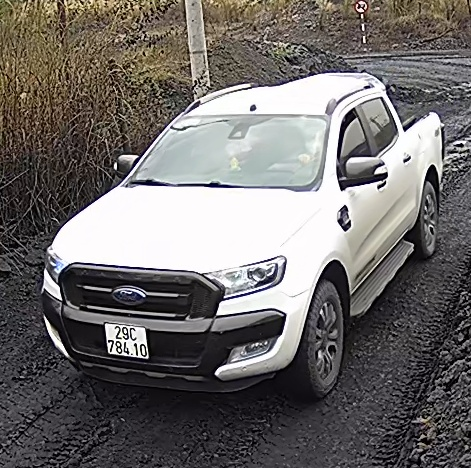vehicle plate: (102, 317, 149, 357)
